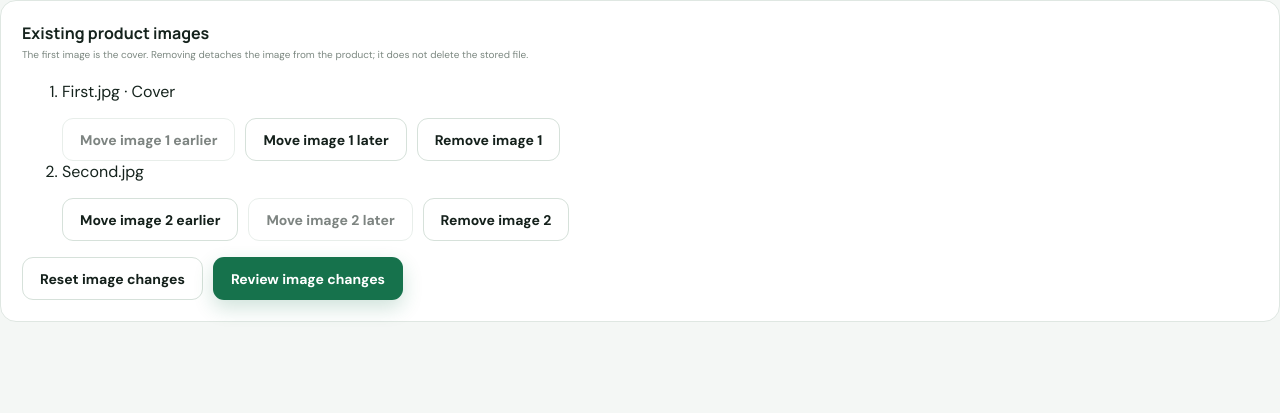
Scenario: product image controls › retains the editor after a rejected save
The image size is (1280, 413).
Click the button "Review image changes": (308, 278) [213,257,403,300]
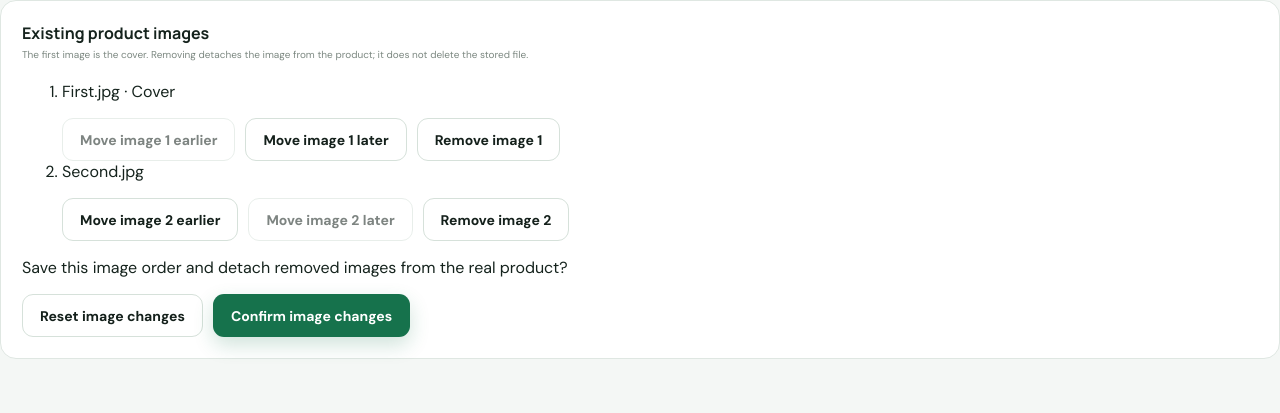
Click the button "Confirm image changes": (312, 316) [213,294,410,337]
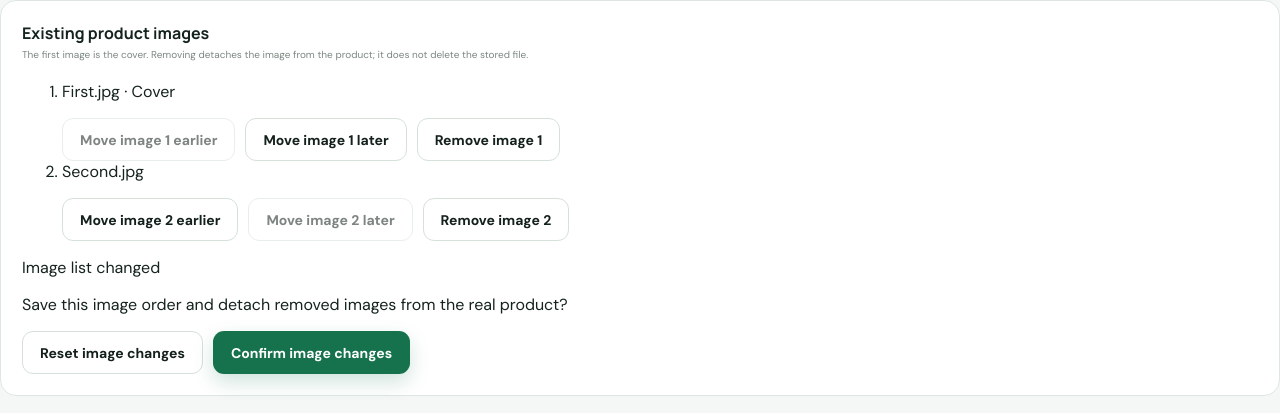
Expected: the text "First.jpg · Cover" is shown, [62,81,175,102]
Result: the message "Image list changed" is shown at [22,257,160,278]
